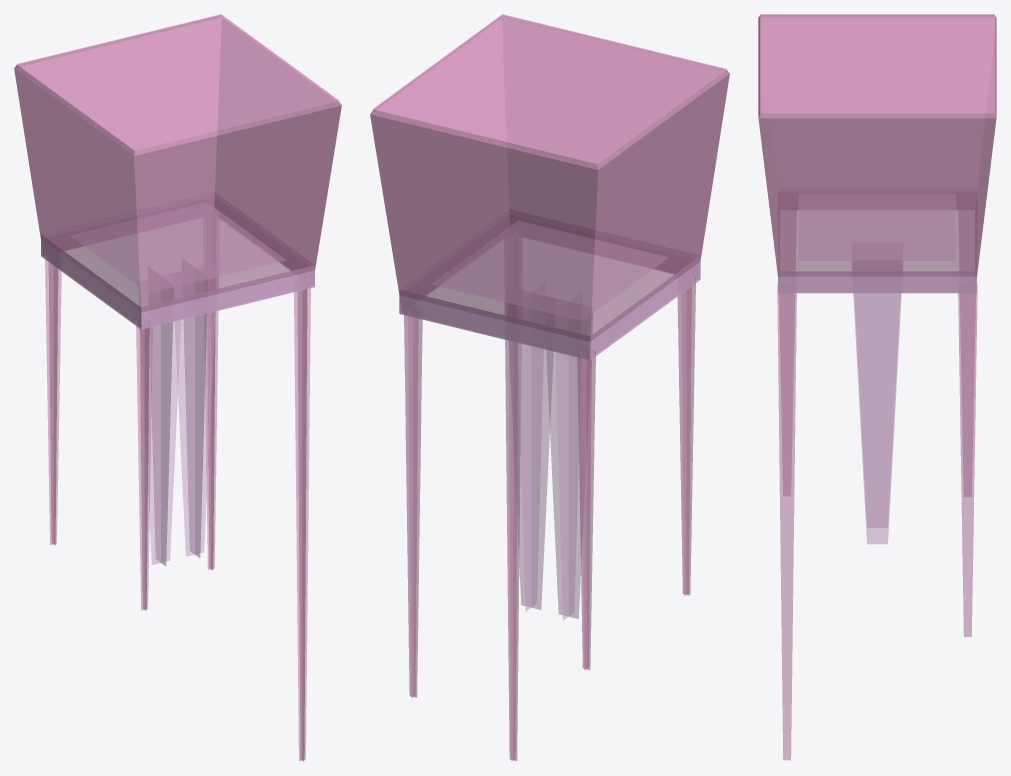
The model's file is jellyfish.obj.
The picture shows the model from 3 angles, left to right: view 1: azimuth 30°, elevation 25°; view 2: azimuth 150°, elevation 25°; view 3: azimuth 270°, elevation 25°; orthographic projection. The views are drawn at different scales.
Visible parts, largest first — view 1: bell_sides, bell_top, heart, rim_band, arm_5, arm_4, thread_2, thread_3, thread_0, thread_1; view 2: bell_sides, bell_top, heart, arm_5, rim_band, arm_4, thread_2, thread_1, thread_0, thread_3; view 3: bell_sides, bell_top, heart, arm_5, arm_4, thread_2, rim_band, thread_1, thread_0, thread_3.
Boxes of the visible parts, left/top/right/bottom form: bell_sides: left=14, top=15, right=341, bottom=312; bell_top: left=16, top=14, right=339, bottom=150; heart: left=71, top=202, right=284, bottom=292; rim_band: left=41, top=192, right=314, bottom=329; arm_5: left=175, top=277, right=216, bottom=557; arm_4: left=139, top=286, right=182, bottom=566; thread_2: left=294, top=283, right=310, bottom=761; thread_3: left=136, top=320, right=152, bottom=610; thread_0: left=45, top=253, right=61, bottom=545; thread_1: left=205, top=277, right=218, bottom=570; bell_sides: left=370, top=15, right=729, bottom=341; bell_top: left=373, top=14, right=727, bottom=164; heart: left=432, top=221, right=667, bottom=320; arm_5: left=507, top=303, right=553, bottom=611; rim_band: left=399, top=209, right=700, bottom=360; arm_4: left=545, top=313, right=592, bottom=620; thread_2: left=505, top=303, right=520, bottom=761; thread_1: left=404, top=309, right=422, bottom=698; thread_0: left=577, top=350, right=595, bottom=670; thread_3: left=677, top=277, right=695, bottom=595; bell_sides: left=758, top=15, right=996, bottom=285; bell_top: left=760, top=14, right=994, bottom=113; heart: left=799, top=195, right=955, bottom=260; arm_5: left=852, top=261, right=902, bottom=544; arm_4: left=854, top=293, right=900, bottom=527; thread_2: left=777, top=283, right=796, bottom=760; rim_band: left=778, top=187, right=976, bottom=293; thread_1: left=958, top=283, right=977, bottom=636; thread_0: left=958, top=207, right=975, bottom=496; thread_3: left=779, top=207, right=796, bottom=495.
Bounding box in the file's own units: 0.4 × 1.22 × 0.4.
